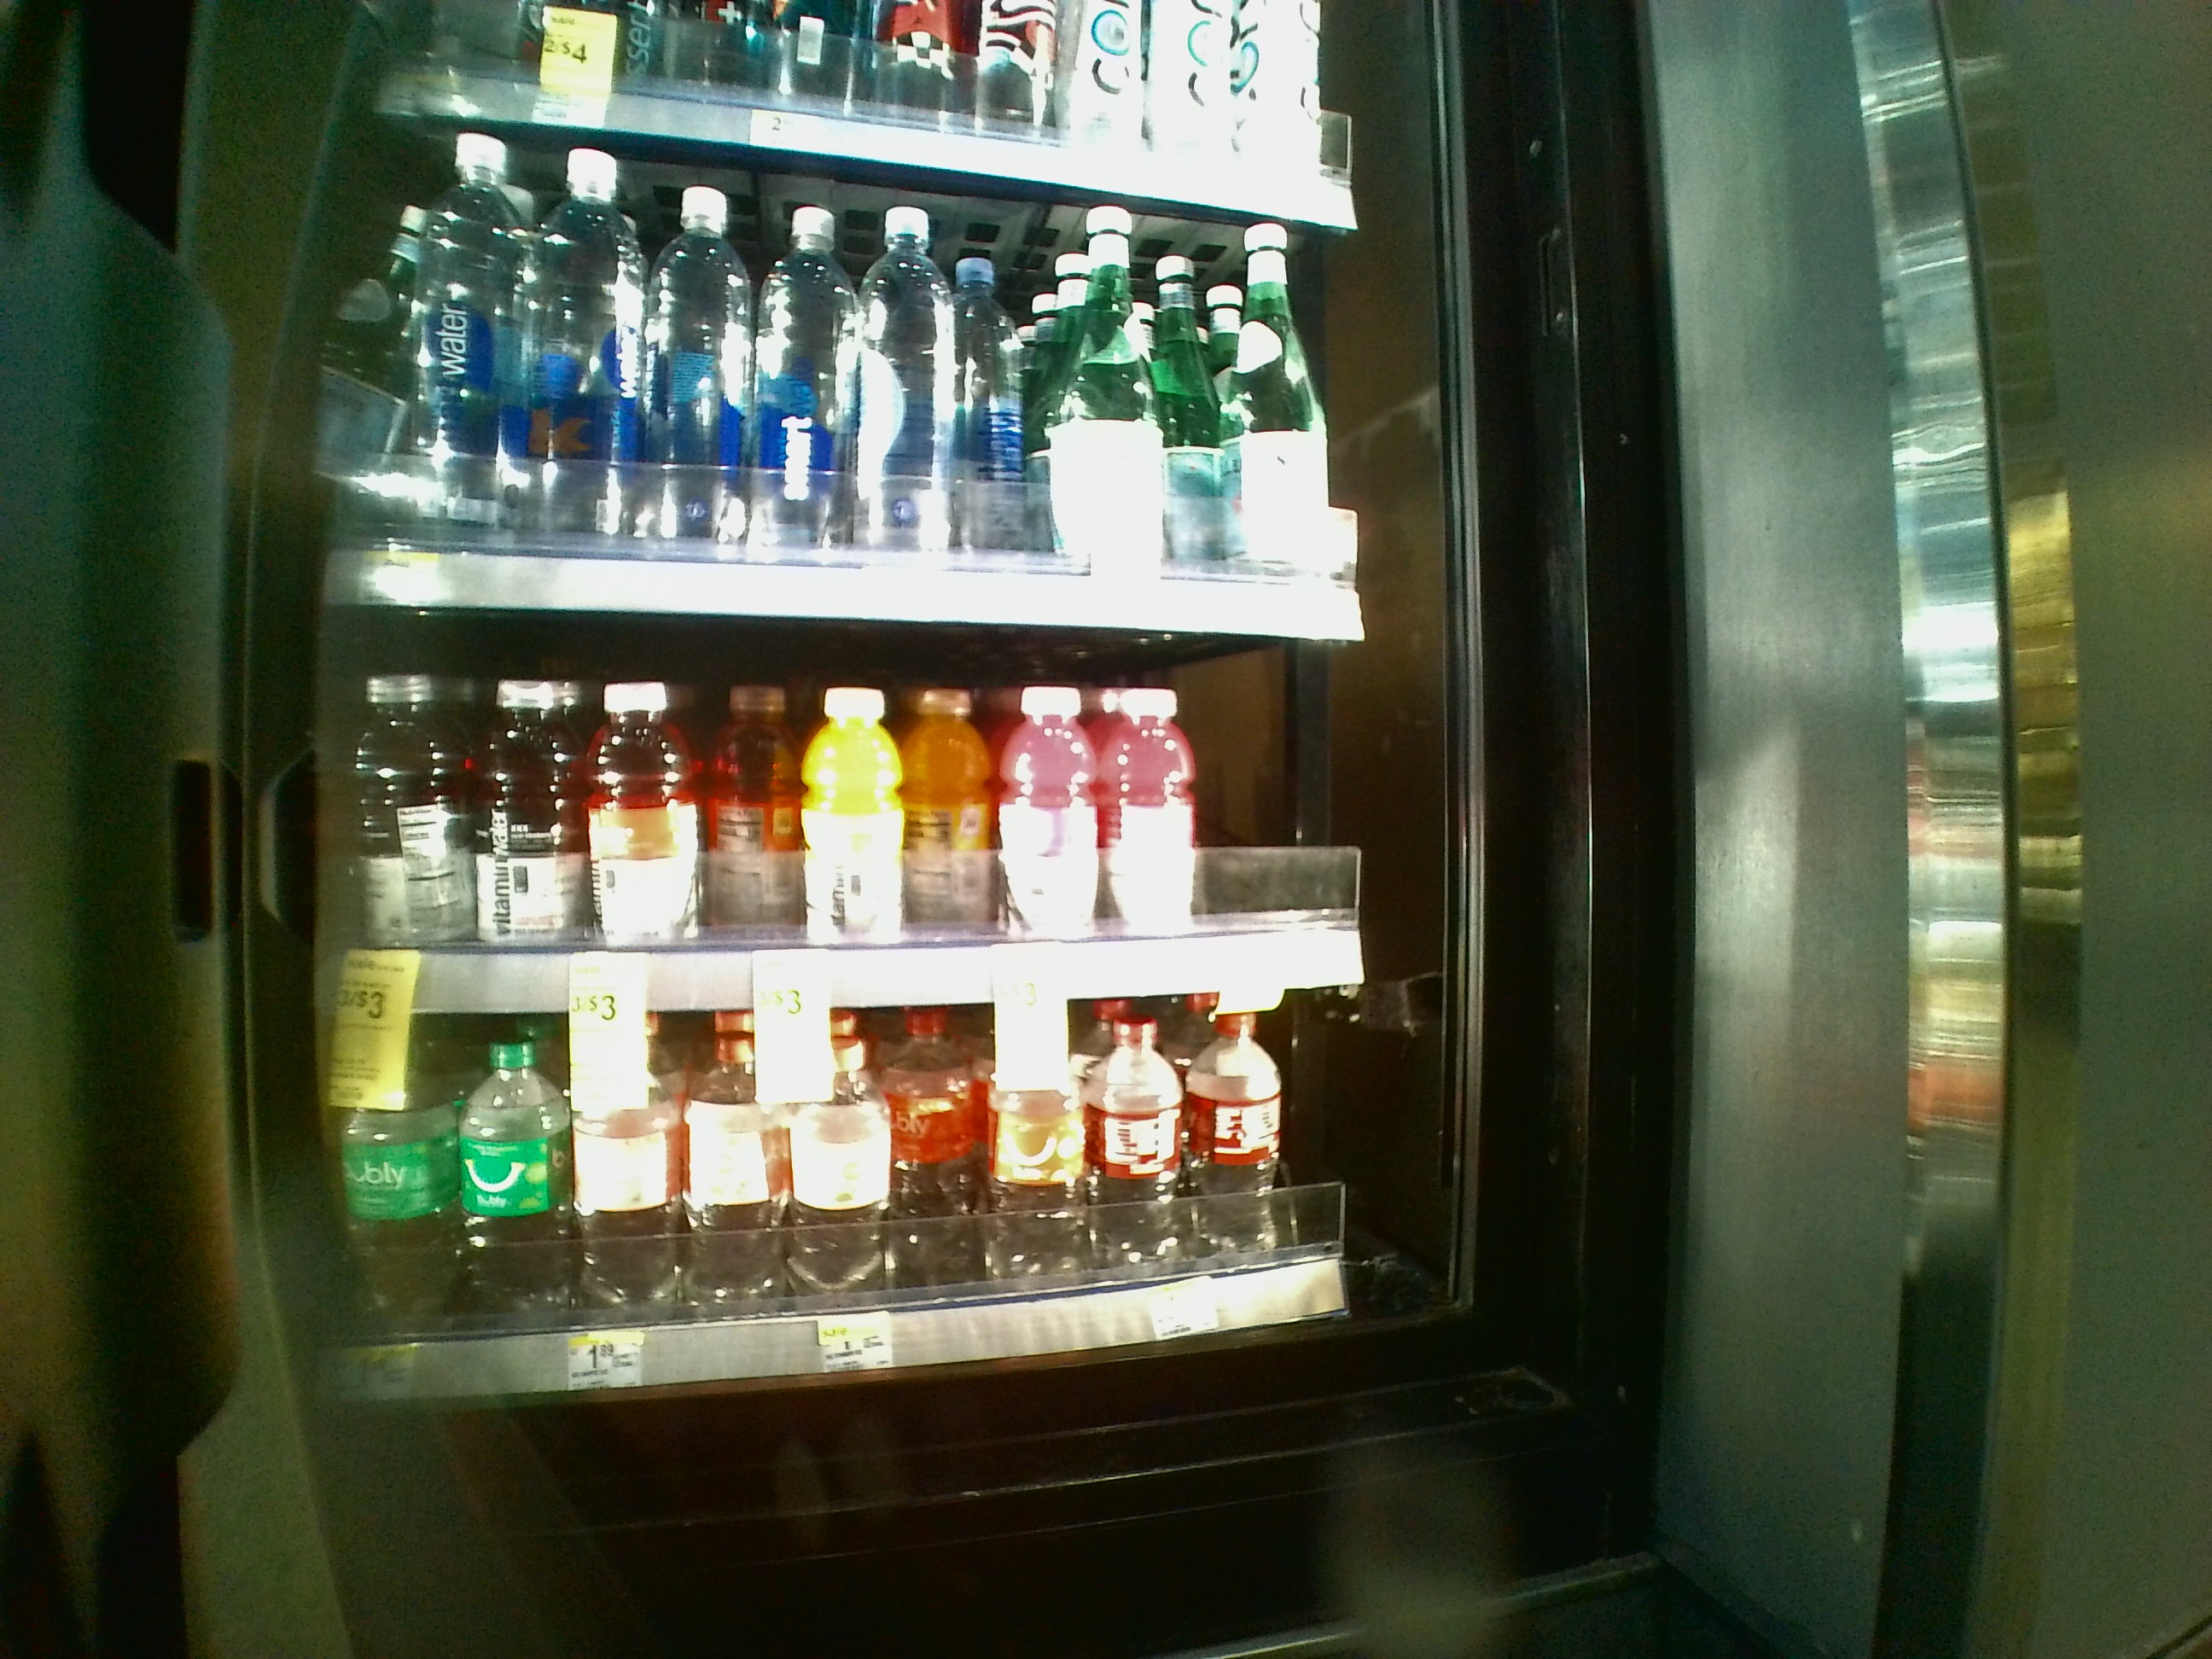Shelf: (286, 603, 1423, 1014), (284, 1012, 1425, 1417)
